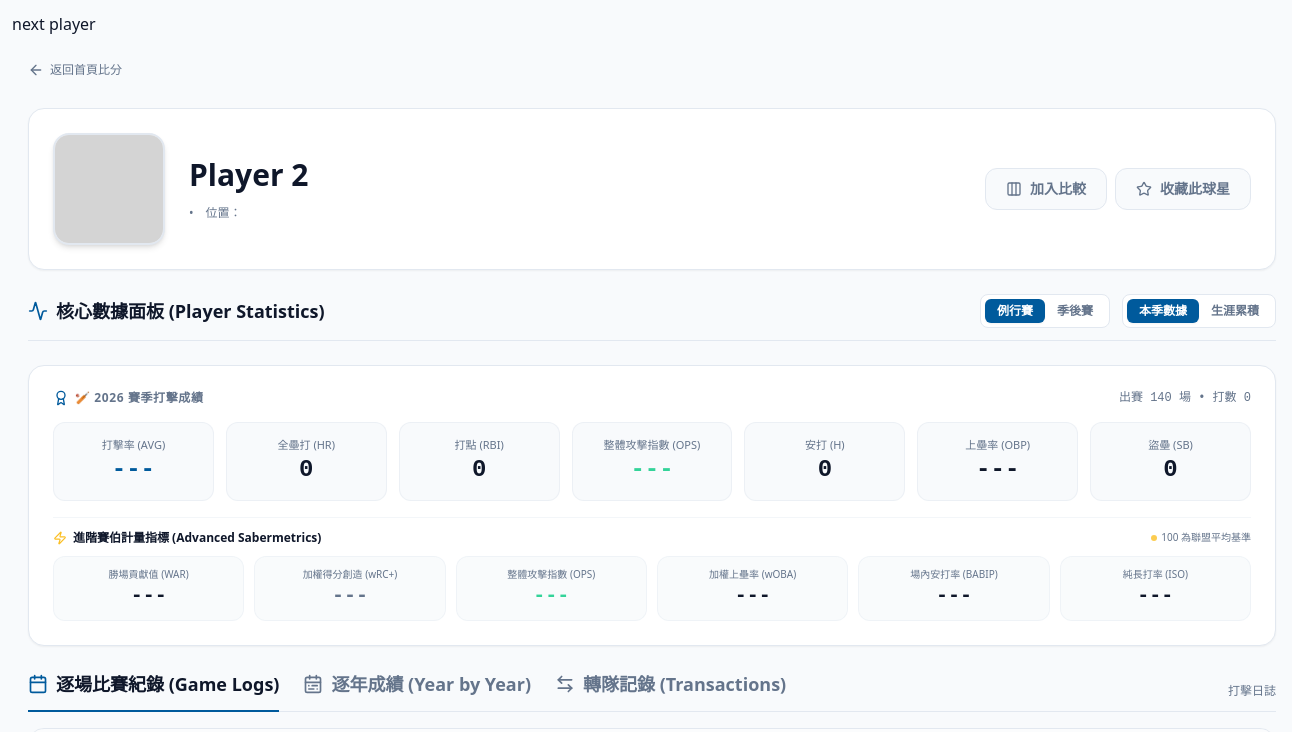
Test: PlayerDetailPage game logs › forgets the postseason view when moving on to another player
Expected: the text "出賽 140 場 • 打數 0" is shown, [1119, 390, 1251, 406]
Click the button "季後賽" at (1075, 311), box [1045, 299, 1105, 323]
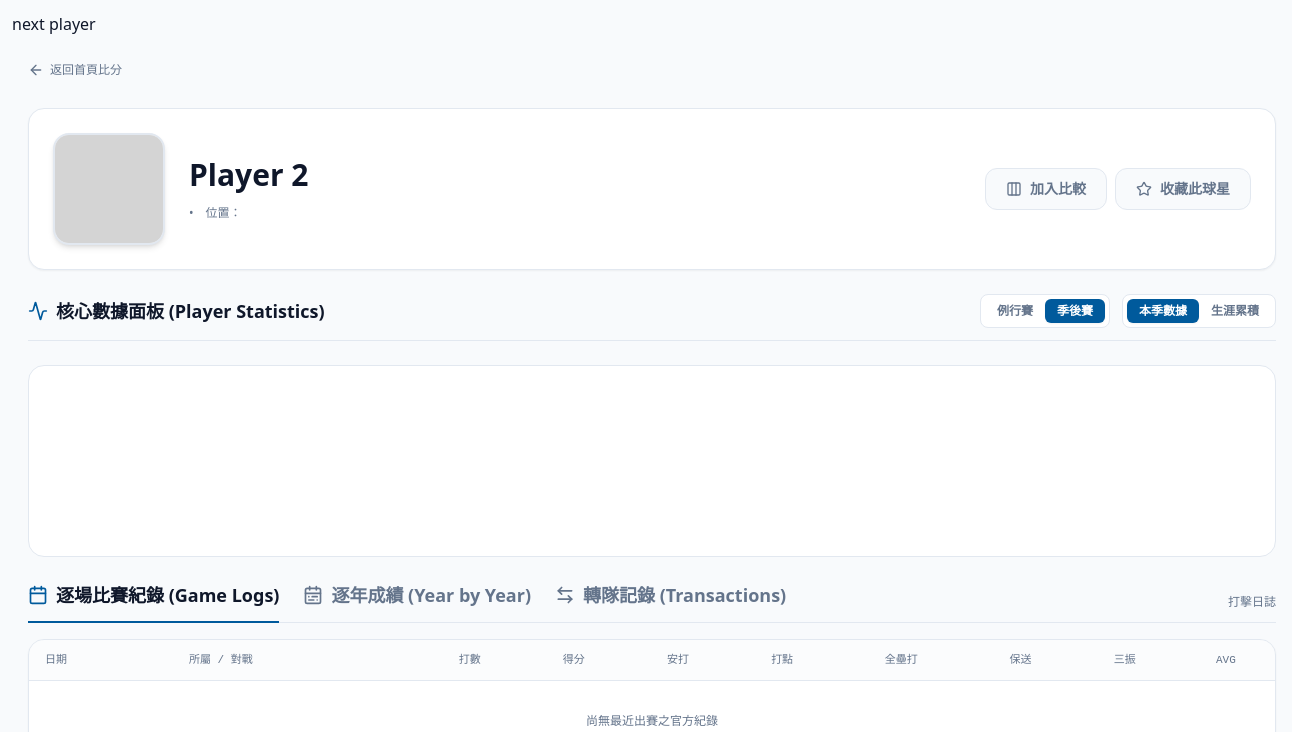
Expected: the button "季後賽" is pressed, [1045, 299, 1105, 323]
Click the link "next player" at (54, 24), box [12, 13, 96, 35]
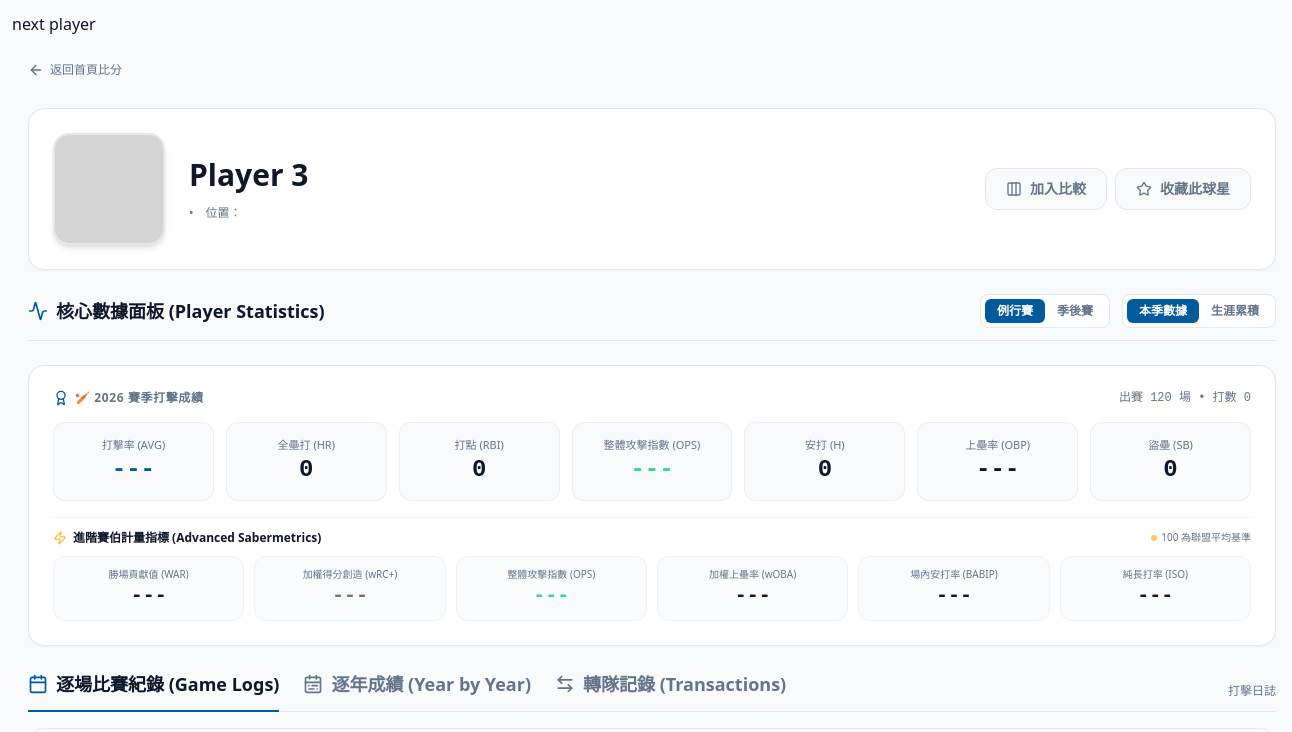
Expected: the text "出賽 120 場 • 打數 0" is shown, [1119, 390, 1251, 406]
